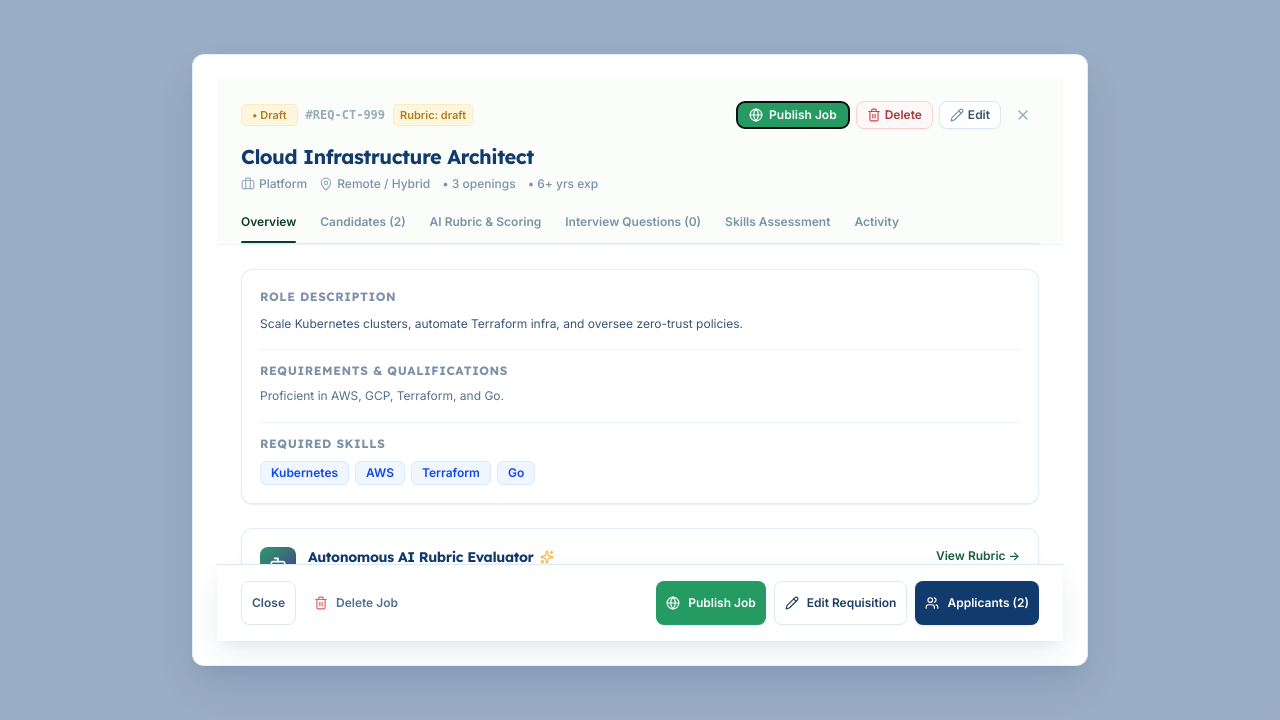
JobInspectionDrawer › opens EditJobModal when clicking Edit button
Click the button "Edit": x=970, y=115 [939,101,1001,129]
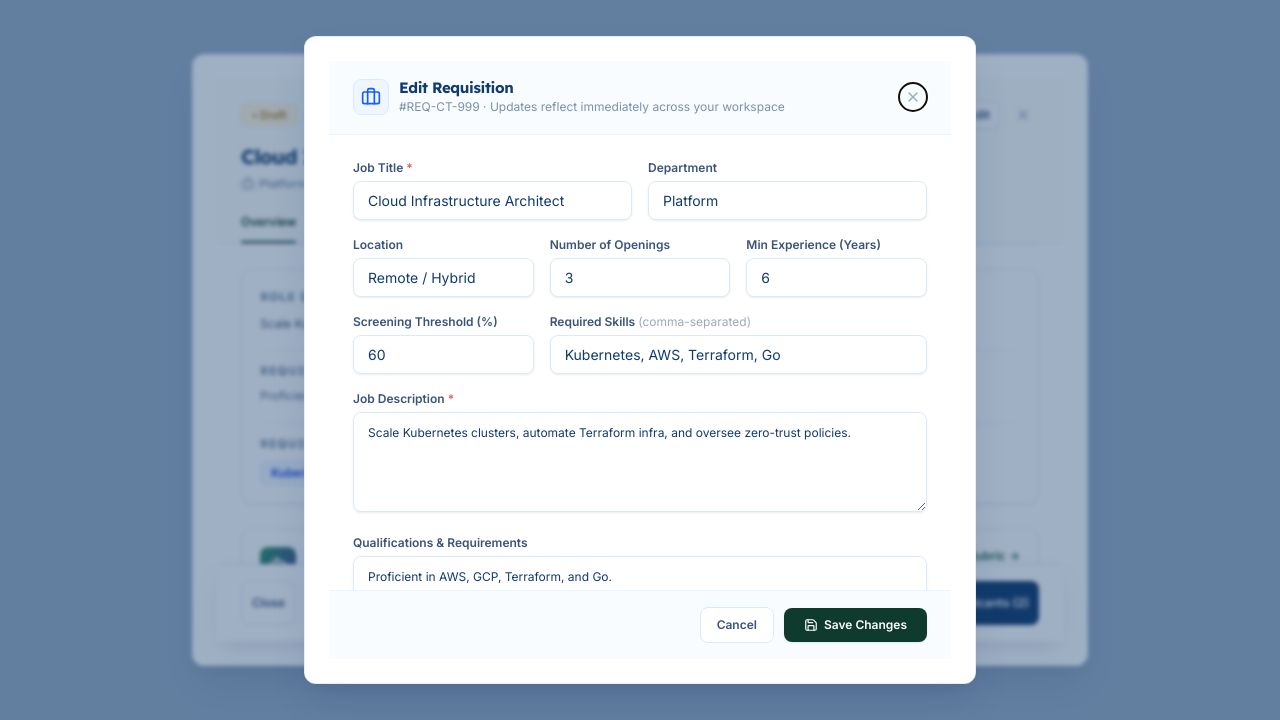
expect the heading "Edit Requisition" is shown: met, box [399,78,513,97]
